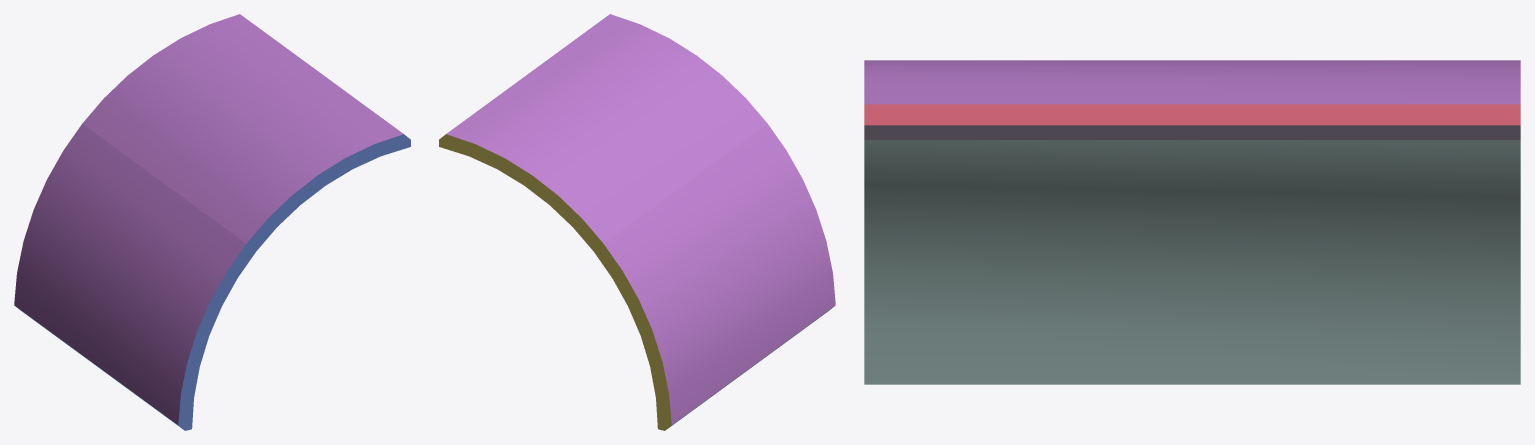
The model's file is module-shield-02.glb.
The picture shows the model from 3 angles, left to right: view 1: azimuth 30°, elevation 25°; view 2: azimuth 150°, elevation 25°; view 3: azimuth 270°, elevation 25°; orthographic projection. The views are drawn at different scales.
Size of the model in its own units: 1.17 by 1.17 by 1.43.
